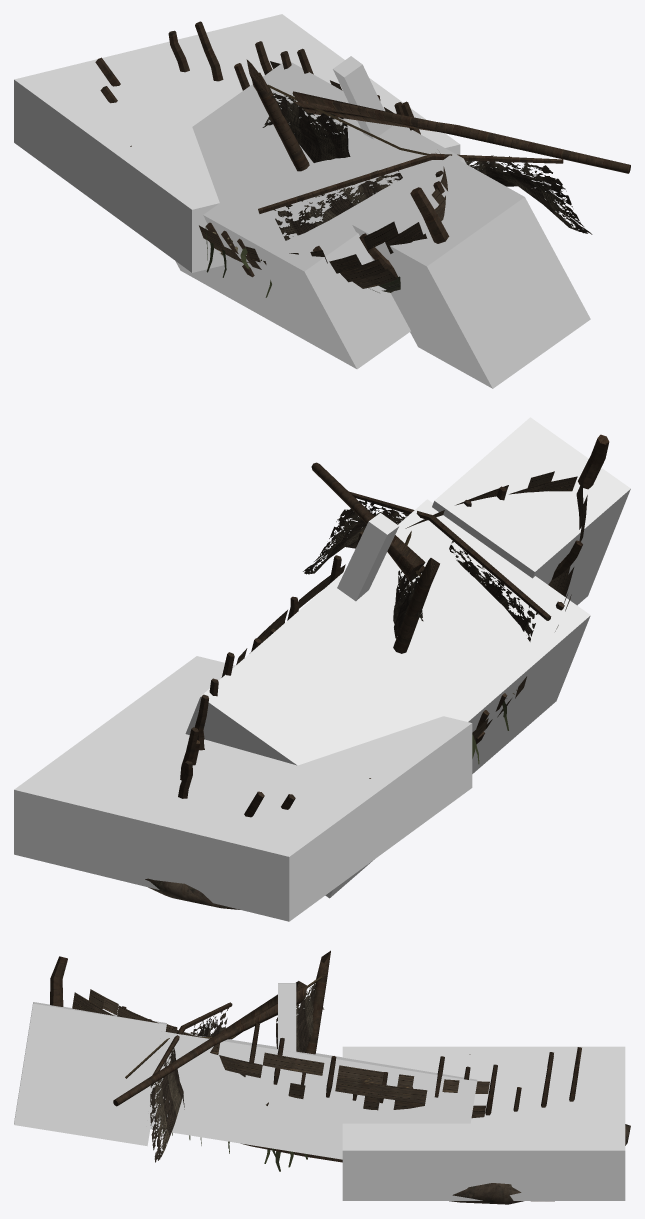
Rendered from boat_wreck_cave_v1.glb.
The picture shows the model from 3 angles, top to bottom: view 1: azimuth 30°, elevation 25°; view 2: azimuth 150°, elevation 25°; view 3: azimuth 270°, elevation 25°; orthographic projection. The views are drawn at different scales.
Parts seen in each view (by area): view 1: col_stern_mound, col_hull_mid, col_hull_bow, wreck_hull, col_mast_stump; view 2: col_stern_mound, col_hull_mid, col_hull_bow, wreck_hull, col_mast_stump, silt_mound; view 3: col_stern_mound, col_hull_mid, wreck_hull, col_hull_bow, col_mast_stump, silt_mound.
Part boxes in pixels (x1,y1,x2,y2): col_stern_mound: [14, 14, 460, 272]; col_hull_mid: [175, 62, 466, 369]; col_hull_bow: [352, 155, 590, 388]; wreck_hull: [95, 21, 630, 292]; col_mast_stump: [333, 56, 391, 139]; col_stern_mound: [14, 656, 472, 921]; col_hull_mid: [185, 499, 590, 898]; col_hull_bow: [432, 417, 630, 605]; wreck_hull: [178, 434, 609, 817]; col_mast_stump: [337, 513, 399, 601]; silt_mound: [145, 878, 239, 909]; col_stern_mound: [342, 1046, 625, 1200]; col_hull_mid: [146, 1031, 477, 1159]; wreck_hull: [50, 950, 581, 1162]; col_hull_bow: [14, 1002, 166, 1146]; col_mast_stump: [278, 983, 296, 1052]; silt_mound: [449, 1124, 630, 1204].
Size of the model in its own units: 5.19 by 4.52 by 11.54.
Materials: 8 (7 with a texture image).
